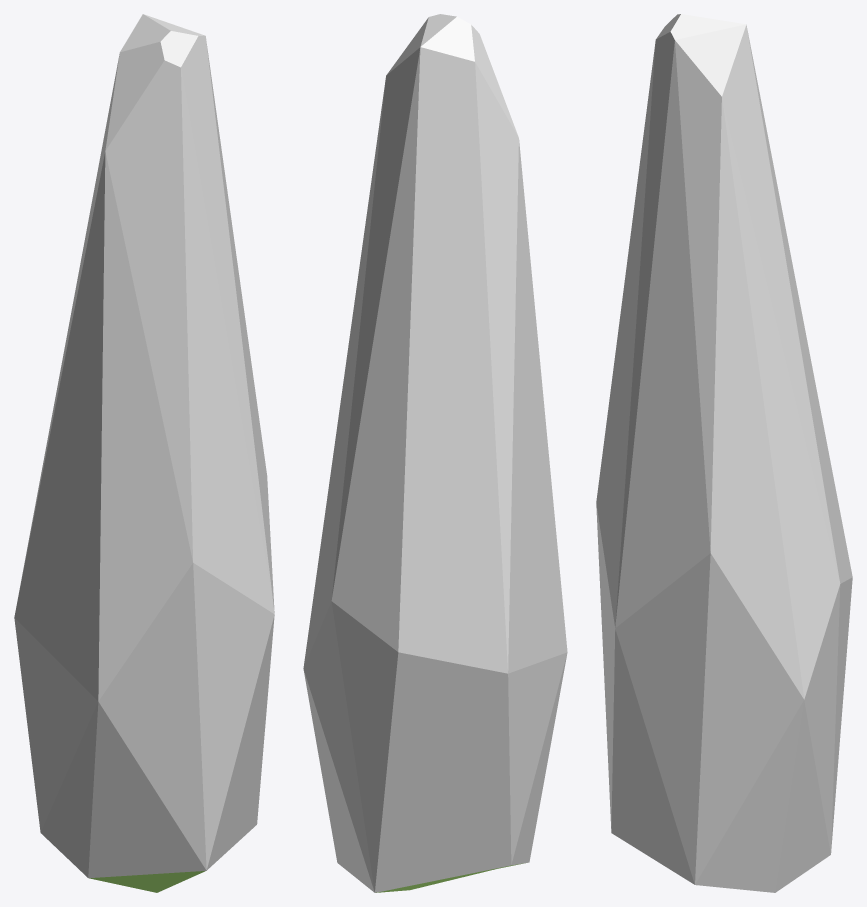
File: Thuja_BushTree_m_Snow_03_LOD.fbx
3 renders of one model, left to right at view 1: azimuth 30°, elevation 25°; view 2: azimuth 150°, elevation 25°; view 3: azimuth 270°, elevation 25°, orthographic.
Visible parts, largest first — view 1: Thuja_BushTree_m_Snow_03_LOD0; view 2: Thuja_BushTree_m_Snow_03_LOD0; view 3: Thuja_BushTree_m_Snow_03_LOD0.
Boxes of the visible parts, x1=… form: Thuja_BushTree_m_Snow_03_LOD0: x1=14, y1=14, x2=274, y2=892; Thuja_BushTree_m_Snow_03_LOD0: x1=303, y1=14, x2=567, y2=892; Thuja_BushTree_m_Snow_03_LOD0: x1=596, y1=14, x2=852, y2=892.
Size of what is drawn, in the model's own units: 103 by 396 by 106.
